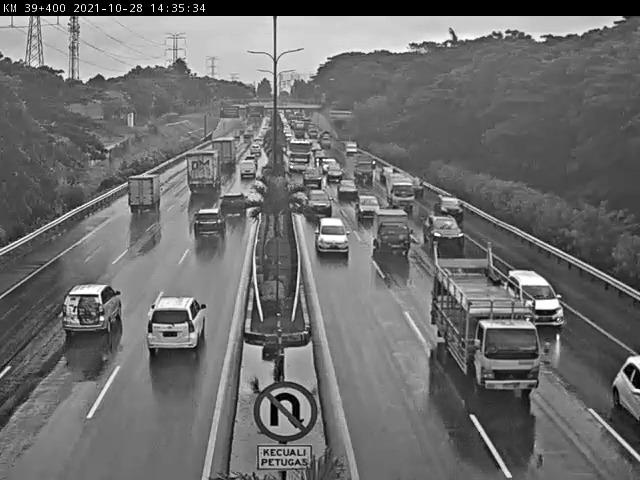big truck: (186, 151, 223, 194), (212, 137, 236, 169), (287, 138, 312, 168)
car: (148, 295, 208, 353), (509, 270, 567, 329), (63, 284, 122, 333), (612, 352, 640, 415), (374, 210, 408, 253), (426, 217, 465, 253), (318, 219, 348, 253), (196, 212, 229, 239), (219, 193, 247, 220), (434, 197, 464, 221), (304, 186, 329, 213), (235, 162, 258, 182), (353, 190, 371, 212), (304, 168, 325, 185), (410, 174, 426, 194), (336, 176, 351, 192), (244, 156, 261, 170), (248, 145, 262, 158), (331, 171, 344, 185), (324, 158, 335, 169)
small truck: (432, 257, 541, 394), (128, 173, 162, 213), (384, 172, 409, 204), (355, 158, 375, 182)
